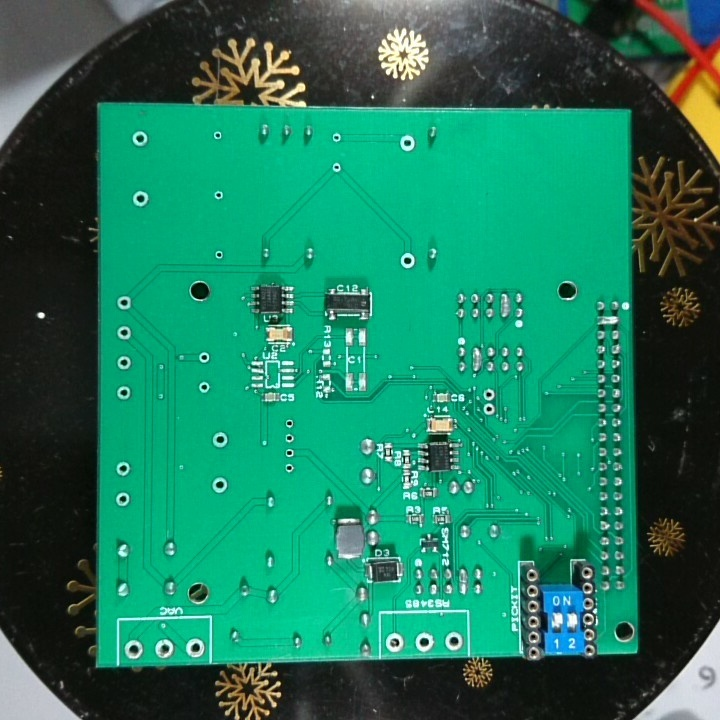F: (181, 637, 208, 660), (412, 629, 437, 652), (397, 247, 419, 273), (210, 474, 232, 500), (121, 639, 148, 660), (384, 630, 407, 654), (152, 637, 176, 660), (130, 189, 155, 210), (210, 427, 230, 453), (396, 132, 419, 154), (130, 128, 152, 151), (113, 381, 135, 404), (113, 489, 136, 511), (443, 629, 464, 652), (113, 352, 133, 376), (114, 293, 136, 313), (113, 458, 133, 480), (115, 322, 133, 343), (196, 347, 213, 369), (279, 444, 302, 460), (481, 386, 499, 403), (481, 399, 497, 418), (196, 379, 212, 396), (282, 459, 299, 475), (281, 417, 299, 431), (330, 158, 344, 175), (211, 186, 225, 203), (281, 432, 299, 445), (211, 247, 226, 262), (330, 130, 343, 146), (212, 128, 224, 143)
P: (497, 289, 513, 323), (470, 342, 485, 375), (456, 565, 470, 599), (594, 312, 621, 327)
